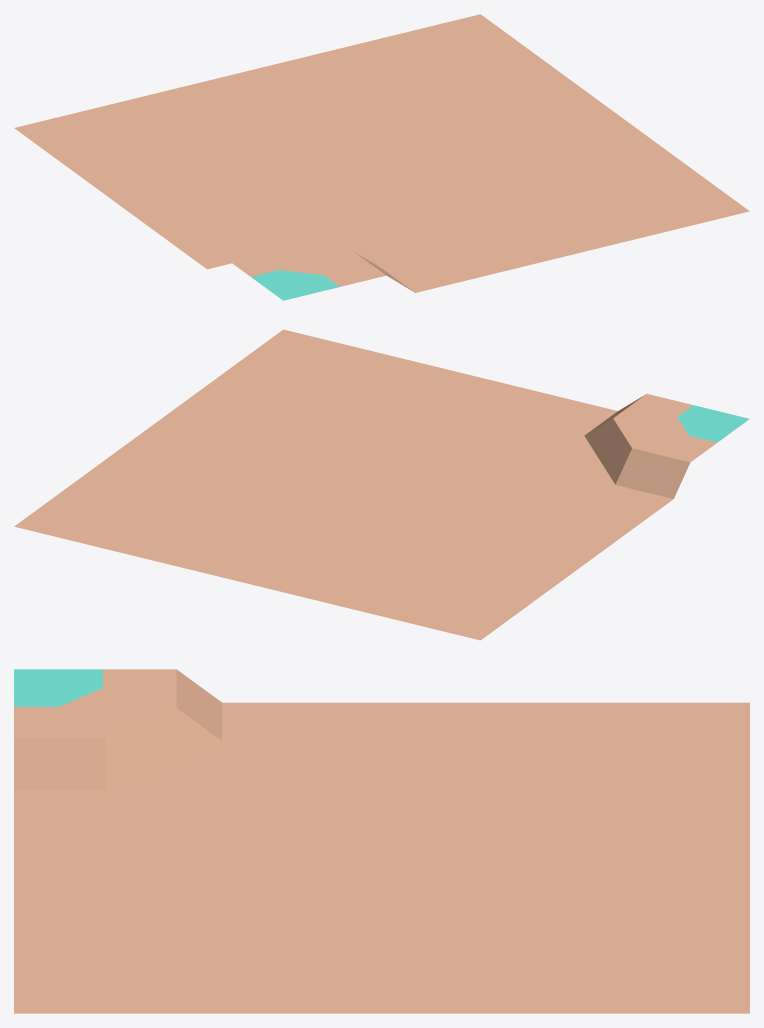
The model's file is ground_pathcornersmall.glb.
3 views of the same model, one above another, from view 1: azimuth 30°, elevation 25°; view 2: azimuth 150°, elevation 25°; view 3: azimuth 270°, elevation 25° (orthographic). The views are drawn at different scales.
Parts seen in each view (by area): view 1: ground_pathCornerSmall; view 2: ground_pathCornerSmall; view 3: ground_pathCornerSmall.
Part boxes in pixels (box(x1,y1,x2,y2)): ground_pathCornerSmall: box(14, 14, 749, 300); ground_pathCornerSmall: box(14, 329, 749, 640); ground_pathCornerSmall: box(14, 669, 749, 1013).
Bounding box in the file's own units: 1 × 0.05 × 1.
